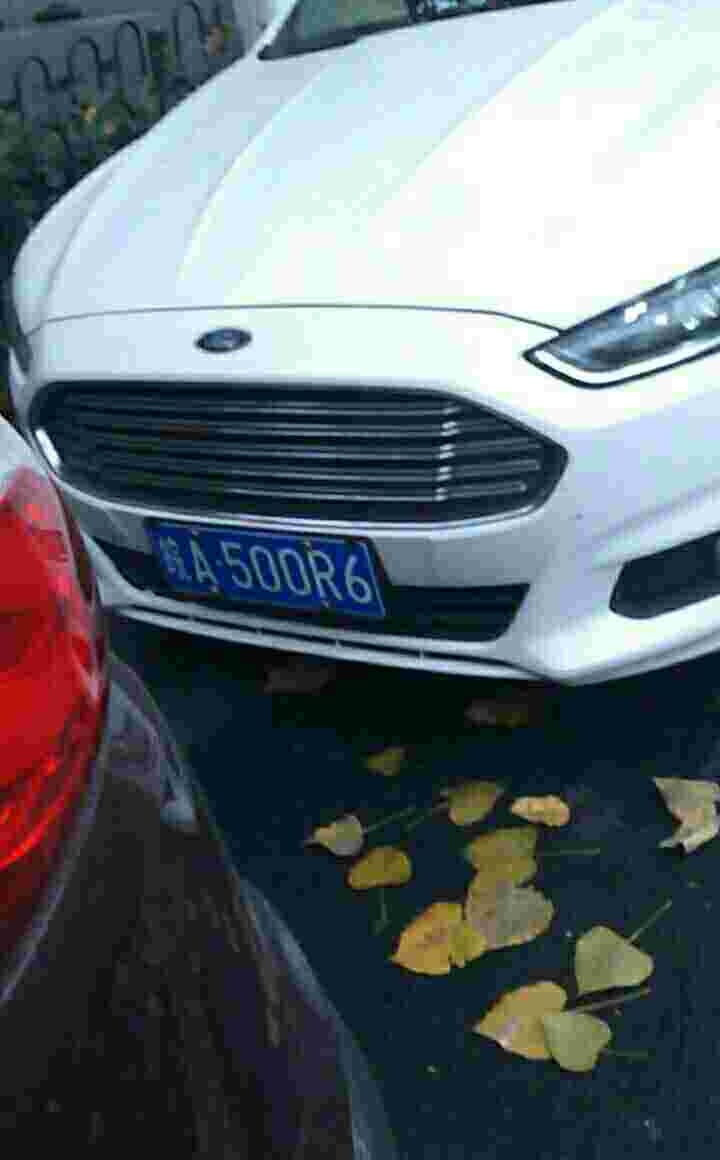license_plate: (139, 525, 390, 618)
